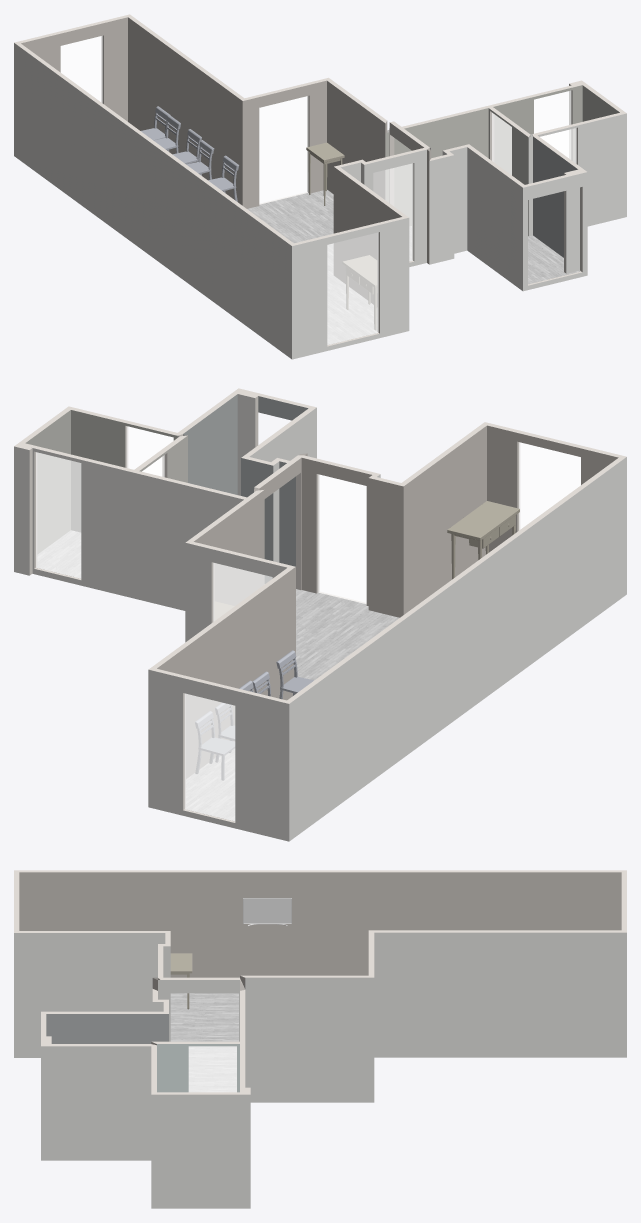
The model's file is TheaterLobby.glb.
The picture shows the model from 3 angles, top to bottom: view 1: azimuth 30°, elevation 25°; view 2: azimuth 150°, elevation 25°; view 3: azimuth 270°, elevation 25°; orthographic projection. The views are drawn at different scales.
Parts seen in each view (by area): view 1: wall_26, wall_79, wall_4, wall_15, floor_Dining_Room, door_4, door_11, door_3, door_10, wall_14, wall_73, wall_51 (+33 smaller); view 2: wall_26, wall_13, wall_79, wall_41, wall_20, floor_Dining_Room, wall_21, door_5, door_2, door_12, door_9, door_0 (+34 smaller); view 3: wall_81, wall_25, wall_11, wall_6, wall_5, wall_16, floor_Dining_Room, wall_59, door_6, door_13, wall_75, wall_82 (+6 smaller).
Boxes of the visible parts, x1,y1,x2,y2 form: wall_26: (14, 43, 291, 359); wall_79: (128, 17, 242, 205); wall_4: (292, 218, 409, 359); wall_15: (467, 147, 522, 290); floor_Dining_Room: (247, 190, 412, 345); door_4: (327, 232, 378, 344); door_11: (327, 233, 378, 344); door_3: (259, 96, 307, 204); door_10: (259, 96, 307, 204); wall_14: (538, 113, 626, 226); wall_73: (242, 80, 326, 208); wall_51: (327, 81, 385, 199); wall_26: (289, 457, 626, 841); wall_13: (148, 669, 289, 841); wall_79: (157, 567, 295, 778); wall_41: (403, 426, 486, 614); wall_20: (133, 473, 243, 610); floor_Dining_Room: (185, 589, 399, 820); wall_21: (32, 448, 133, 598); door_5: (318, 474, 366, 603); door_2: (185, 693, 234, 820); door_12: (318, 475, 366, 603); door_9: (185, 694, 234, 820); door_0: (36, 452, 80, 578); wall_81: (19, 872, 621, 977); wall_25: (374, 932, 626, 1057); wall_11: (245, 977, 374, 1102); wall_6: (14, 933, 165, 1057); wall_5: (49, 1046, 151, 1160); wall_16: (151, 1094, 242, 1208); floor_Dining_Room: (170, 993, 238, 1091); wall_59: (46, 1014, 168, 1043); door_6: (189, 1046, 236, 1091); door_13: (189, 1046, 236, 1091); wall_75: (157, 1044, 239, 1092); wall_82: (15, 870, 625, 872).
Size of the model in its own units: 9.28 by 2.53 by 11.26.
77 materials, 3 textured.
